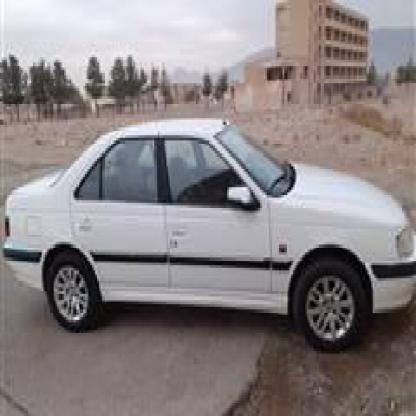car: (0, 114, 415, 375)
